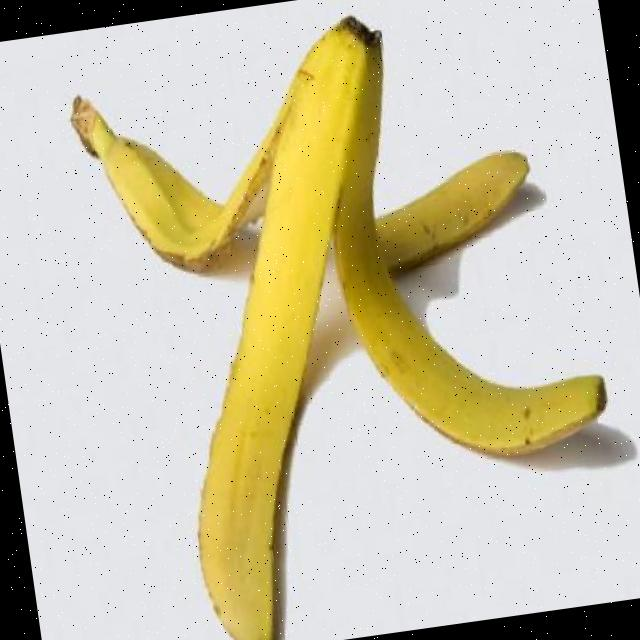banana-peel: (58, 0, 635, 640)
